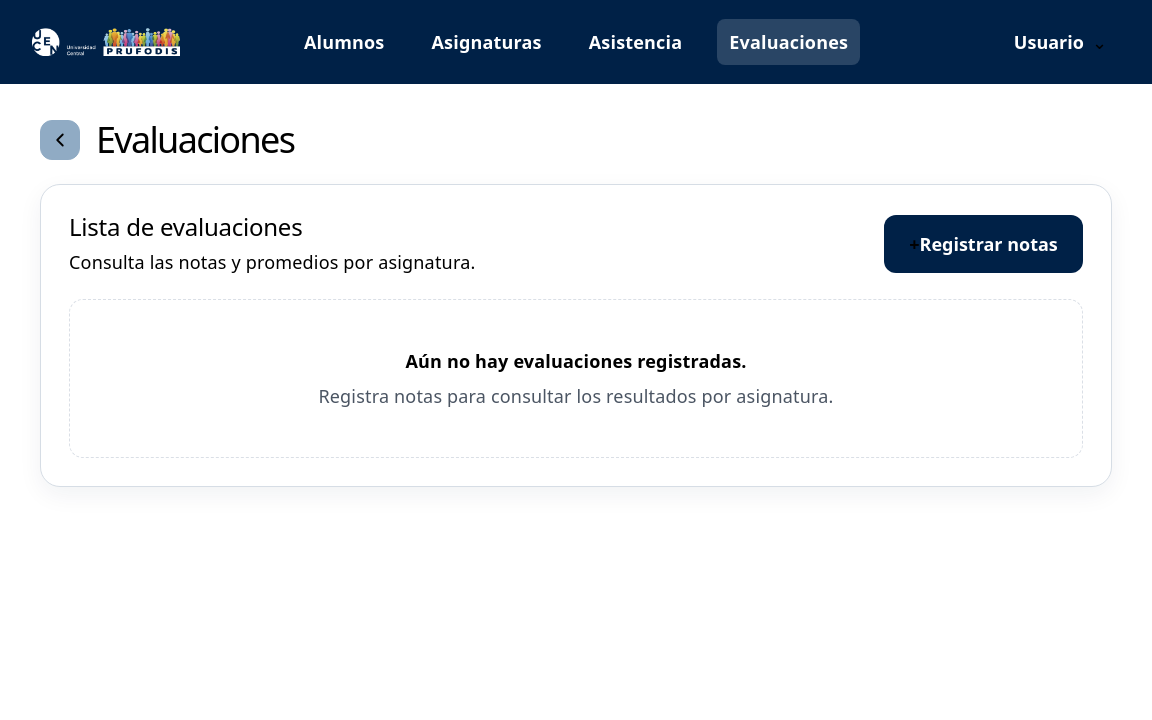
Scenario: EvaluacionesPage: registro de notas › CP-06: impide guardar mientras la celda de nota sigue en edición
Click the button "+ Registrar notas".
click(984, 244)  # box [884,215,1083,274]
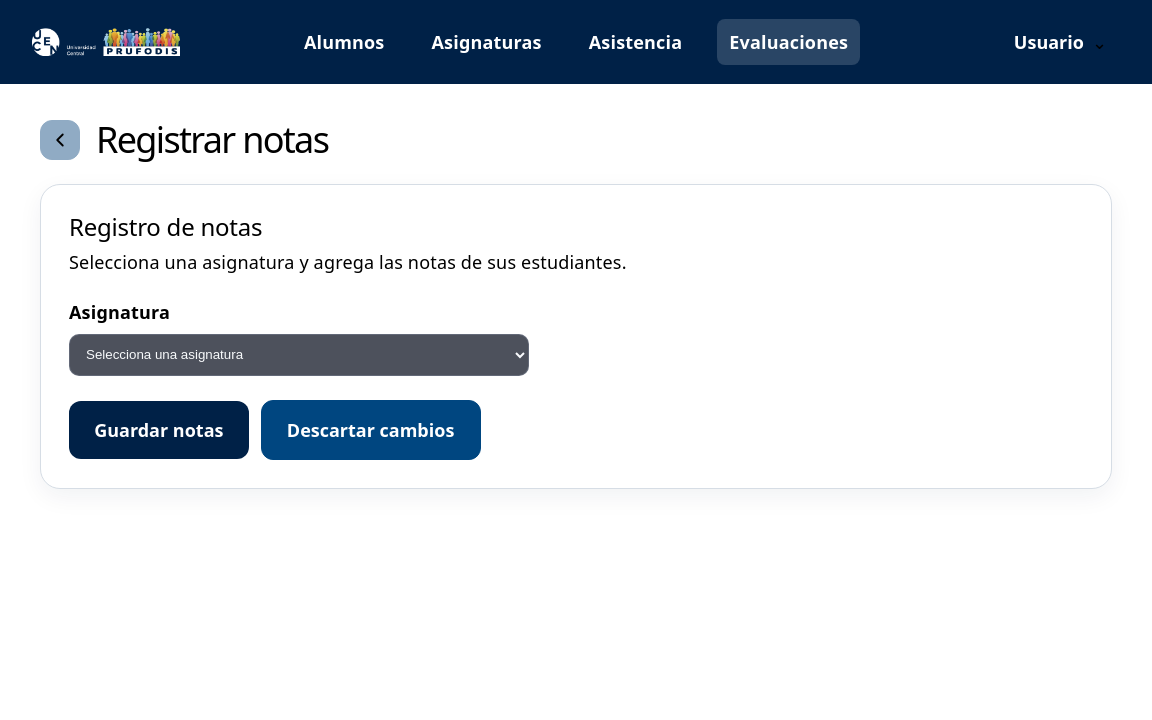
Select "Matemáticas" in the dropdown labelled "Asignatura" at [299, 354], box [69,334,529,376]
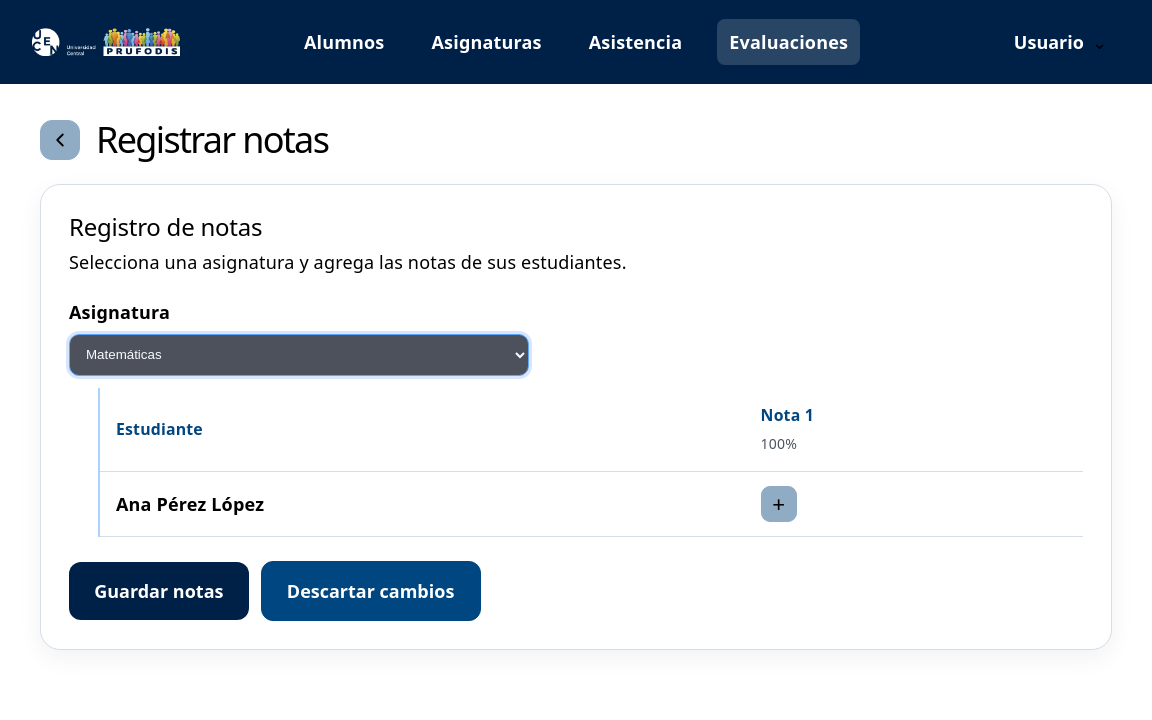
Click the button named "Agregar nota 1 a Ana Pérez López".
click(779, 504)  # box [761,486,797,522]
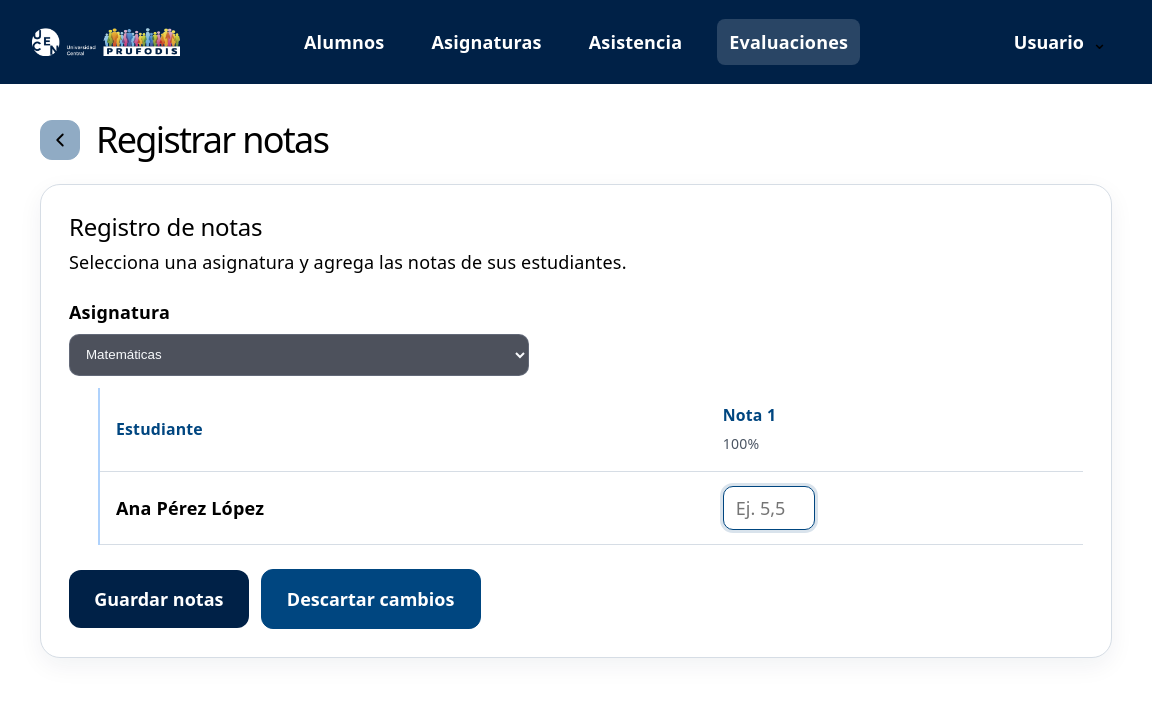
Type "5,5" into the field named "Nota 1 de Ana Pérez López".
click(769, 508); type("5,5")  # box [723,486,815,530]
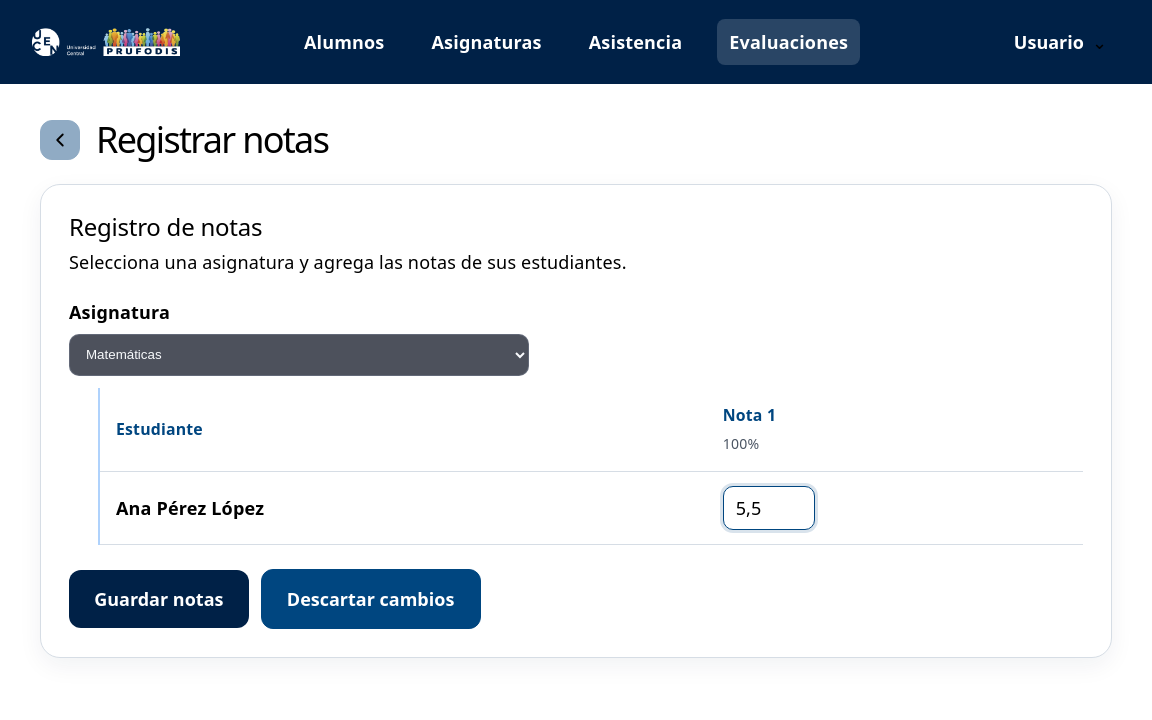
Click the button "Guardar notas".
click(159, 599)  # box [69,570,249,628]
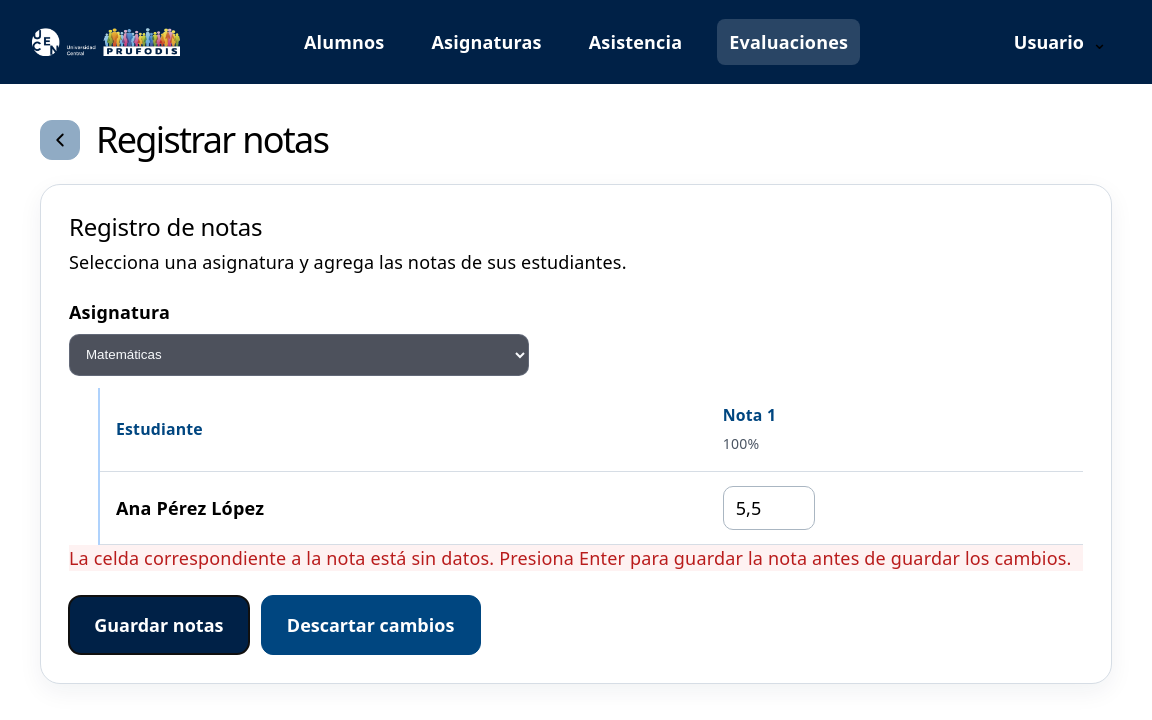
Now the message shows "La celda correspondiente a la nota está sin datos.", box [69,546,1072,570]
